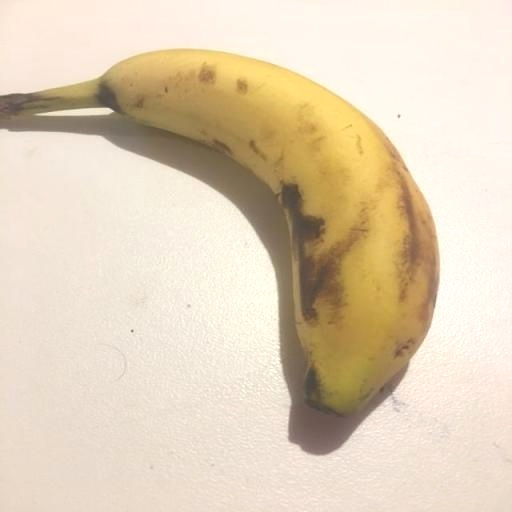fruit: (396, 142, 476, 464)
